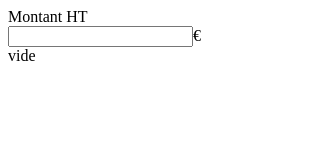
Montant (piège du zéro) › lit la virgule, distingue 0 du vide et n’émet jamais NaN
Type "1 250,50" into the field labelled "Montant HT" at (100,36), box [8,26,193,47]
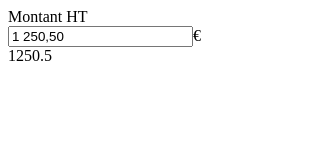
Expected: the text with test id "v" reads "1250.5", [8,47,52,64]
Replace the text in the field labelled "Montant HT" with "0" at (100,36), box [8,26,193,47]
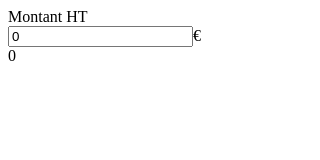
Expected: the text with test id "v" reads "0", [8,47,16,64]
Clear the field labelled "Montant HT" at (100,36), box [8,26,193,47]
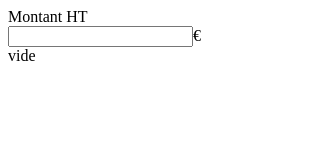
Expected: the text with test id "v" reads "vide", [8,47,36,64]
Type "abc" into the field labelled "Montant HT" at (100,36), box [8,26,193,47]
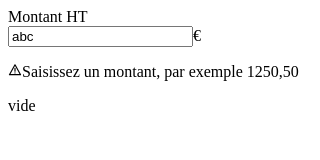
Expected: the text with test id "v" reads "vide", [8,97,36,114]
Expected: the text "Saisissez un montant, par exemple 1250,50" is shown, [8,63,299,80]
